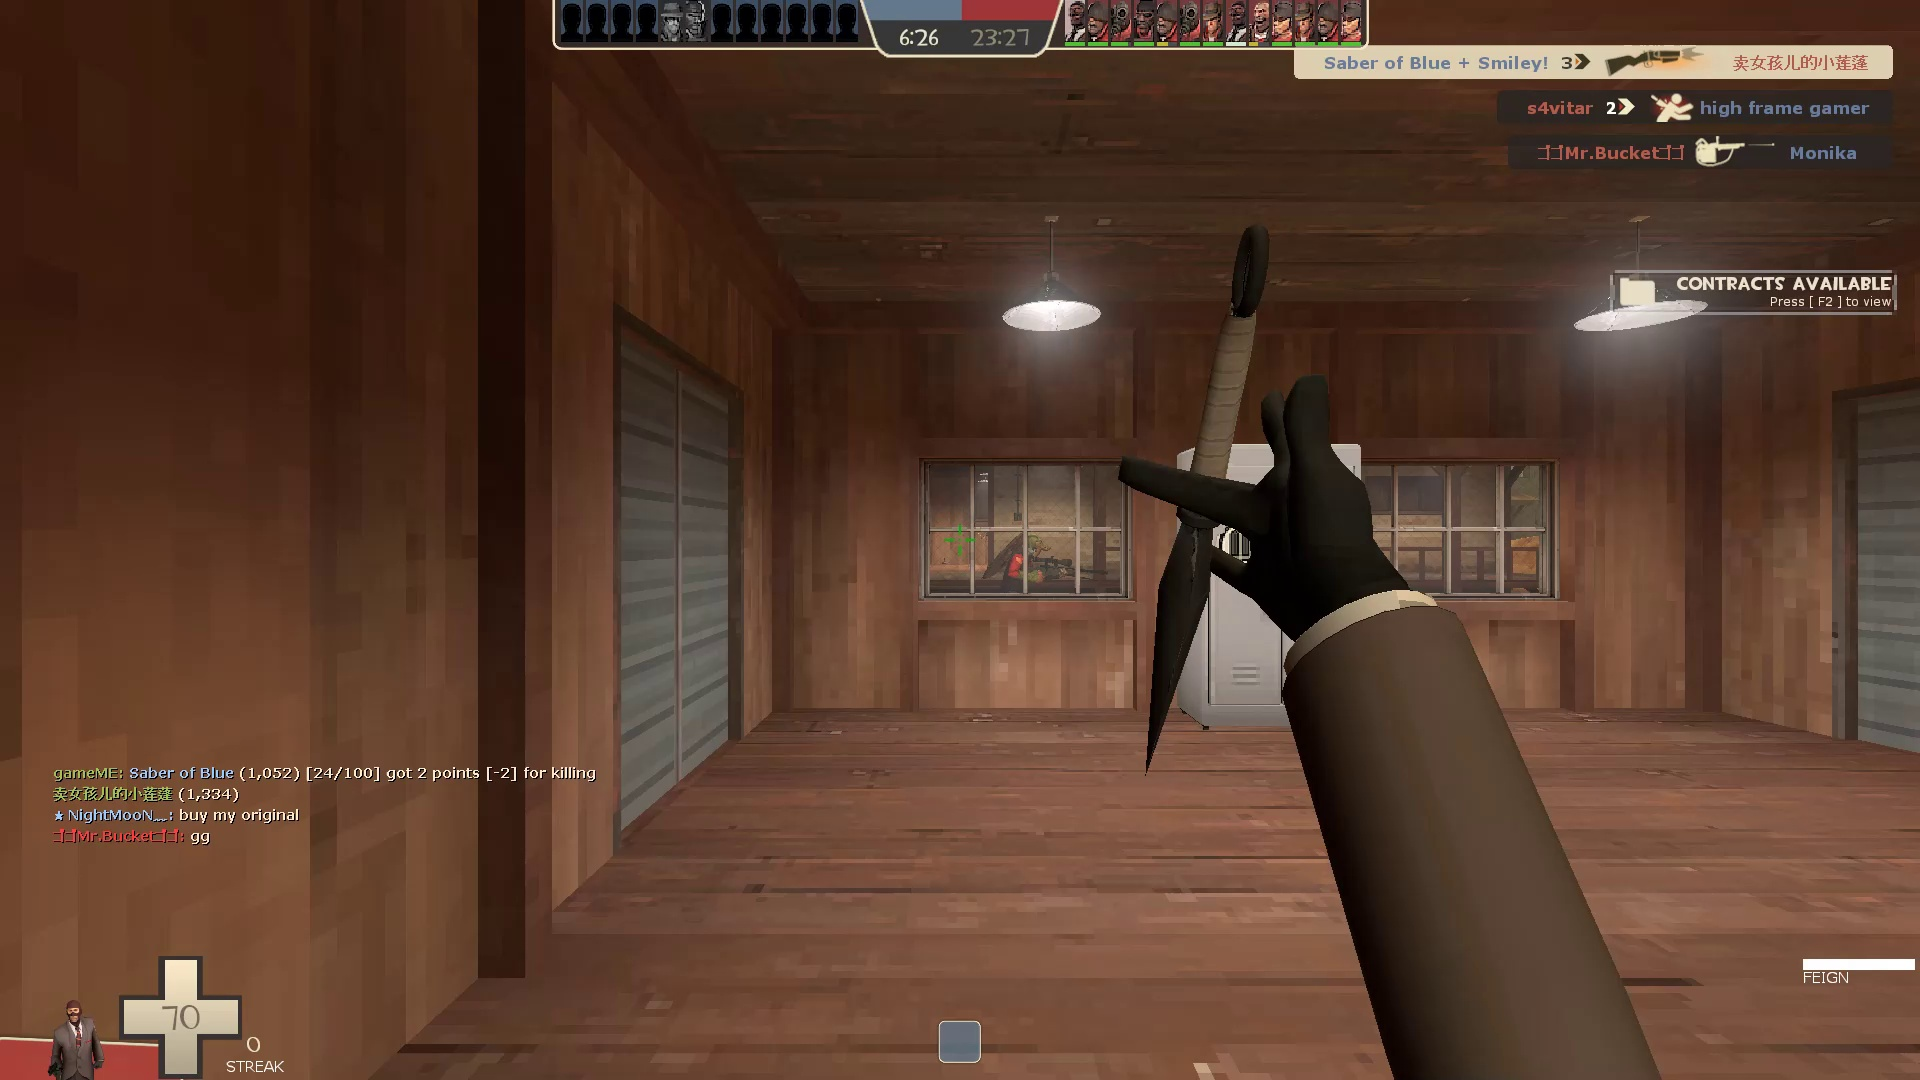red_sniper: (971, 529, 1105, 607)
